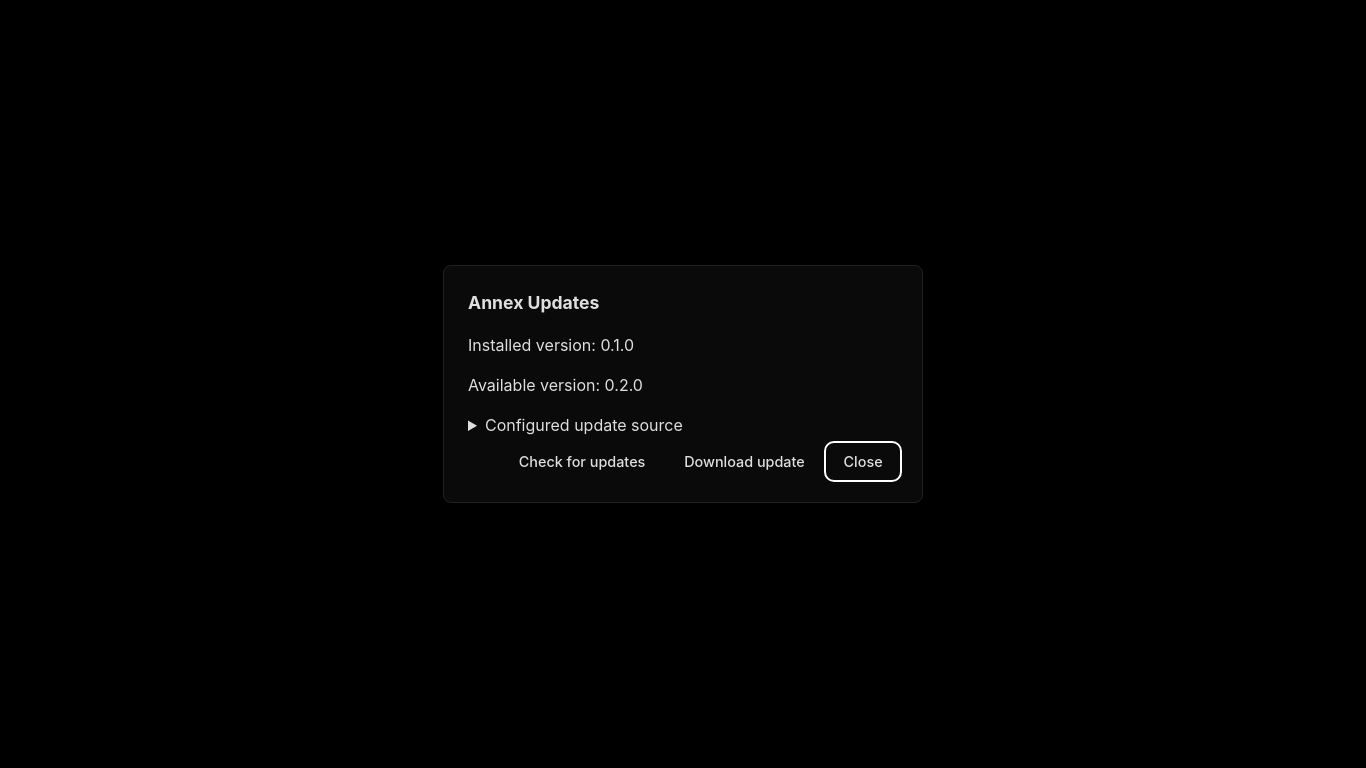
Test: DesktopUpdates › releases a stalled download and lets the user retry without installing partial bytes
This screenshot has width=1366, height=768.
Click the button "Download update".
click(744, 461)  # box [669,444,820,478]
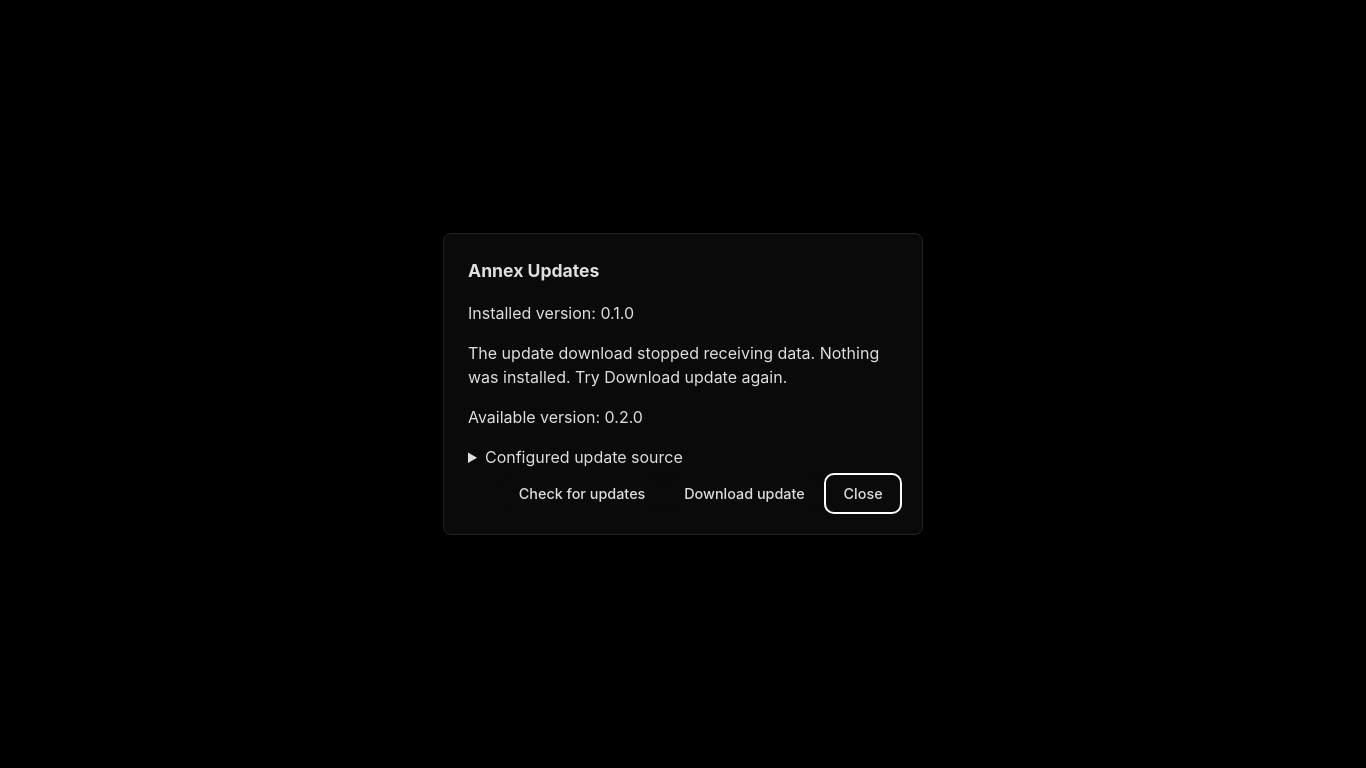
Expected: the button "Install and restart" is not shown
Expected: the message shows "stopped receiving data", [468,342,879,386]
Click the button "Download update".
click(744, 493)  # box [669,476,820,510]
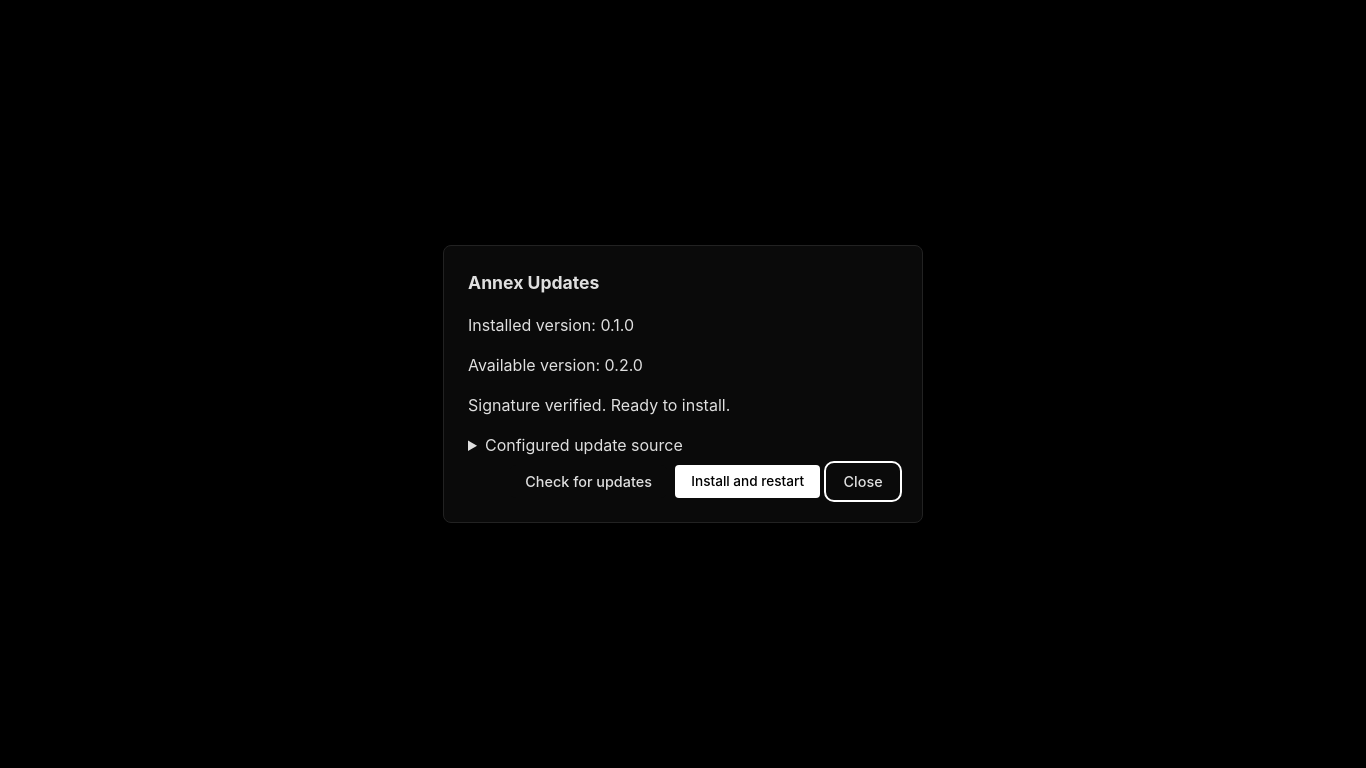
Expected: the text "Signature verified. Ready to install." is shown, [468,394,730,414]
